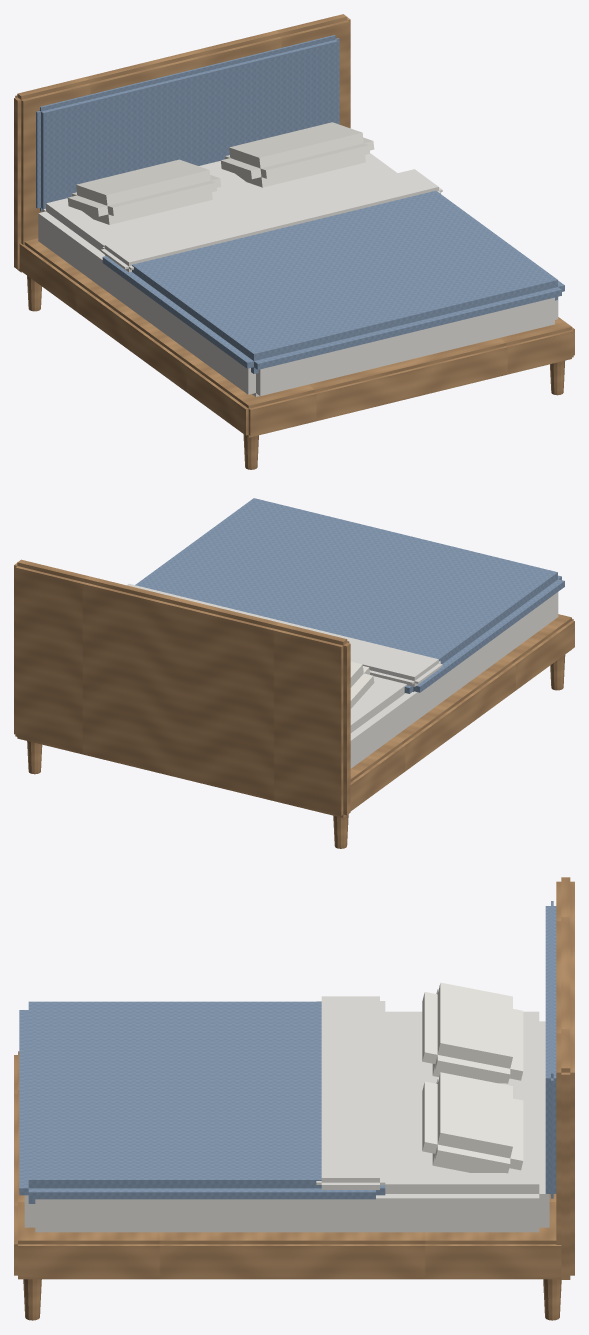
Rendered from modern_bed.obj.
The picture shows the model from 3 angles, top to bottom: view 1: azimuth 30°, elevation 25°; view 2: azimuth 150°, elevation 25°; view 3: azimuth 270°, elevation 25°; orthographic projection. The views are drawn at different scales.
Parts seen in each view (by area): view 1: BedDuvetMain, BedHeadboardPad, BedFrameBase, BedMattress, BedHeadboard, BedDuvetFold, BedPillow_Left, BedPillow_Right; view 2: BedHeadboard, BedDuvetMain, BedFrameBase, BedMattress, BedDuvetFold, BedPillow_Left, BedLeg_-0.80_0.98, BedLeg_0.80_0.98; view 3: BedDuvetMain, BedMattress, BedFrameBase, BedDuvetFold, BedPillow_Right, BedPillow_Left, BedHeadboard, BedHeadboardPad, BedLeg_0.80_-0.98, BedLeg_0.80_0.98.
Part boxes in pixels (x1,y1,x2,y2): BedDuvetMain: (102,190,564,373); BedHeadboardPad: (36,35,339,211); BedFrameBase: (19,238,574,437); BedMattress: (38,153,558,396); BedHeadboard: (14,14,350,272); BedDuvetFold: (101,169,442,272); BedPillow_Left: (67,159,221,224); BedPillow_Right: (220,122,374,187); BedHeadboard: (14,559,350,817); BedDuvetMain: (135,498,564,693); BedFrameBase: (350,614,574,810); BedMattress: (350,592,558,768); BedDuvetFold: (127,583,442,686); BedPillow_Left: (350,661,374,708); BedLeg_-0.80_0.98: (333,814,348,848); BedLeg_0.80_0.98: (27,741,42,774); BedDuvetMain: (19,1001,385,1203); BedMattress: (24,1011,549,1232); BedFrameBase: (14,1051,561,1279); BedDuvetFold: (316,996,385,1189); BedPillow_Right: (422,1072,523,1173); BedPillow_Left: (422,982,523,1083); BedHeadboard: (556,877,574,1279); BedHeadboardPad: (545,901,556,1198); BedLeg_0.80_-0.98: (23,1279,41,1320); BedLeg_0.80_0.98: (543,1279,561,1320).
Bounding box in the file's own units: 1.74 × 1.06 × 2.12.
Materials: 4 (2 with a texture image).
